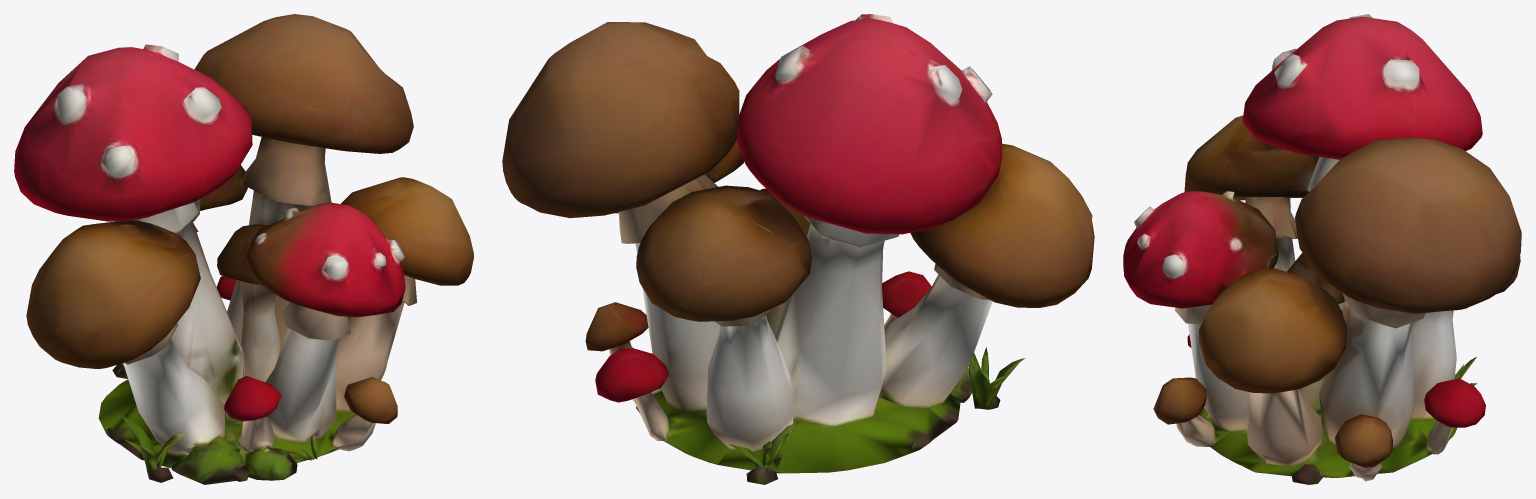
File: mushrooms-a.glb
3 views of the same model, side by side, from view 1: azimuth 30°, elevation 25°; view 2: azimuth 150°, elevation 25°; view 3: azimuth 270°, elevation 25° (orthographic). The views are drawn at different scales.
Parts seen in each view (by area): view 1: node_0; view 2: node_0; view 3: node_0.
Boxes of the visible parts, <box> form: node_0: <box>14,14,473,484</box>; node_0: <box>502,14,1094,484</box>; node_0: <box>1123,14,1521,484</box>.
Bounding box in the file's own units: 0.3594 × 0.2997 × 0.3.
Materials: 1 (1 with a texture image).
